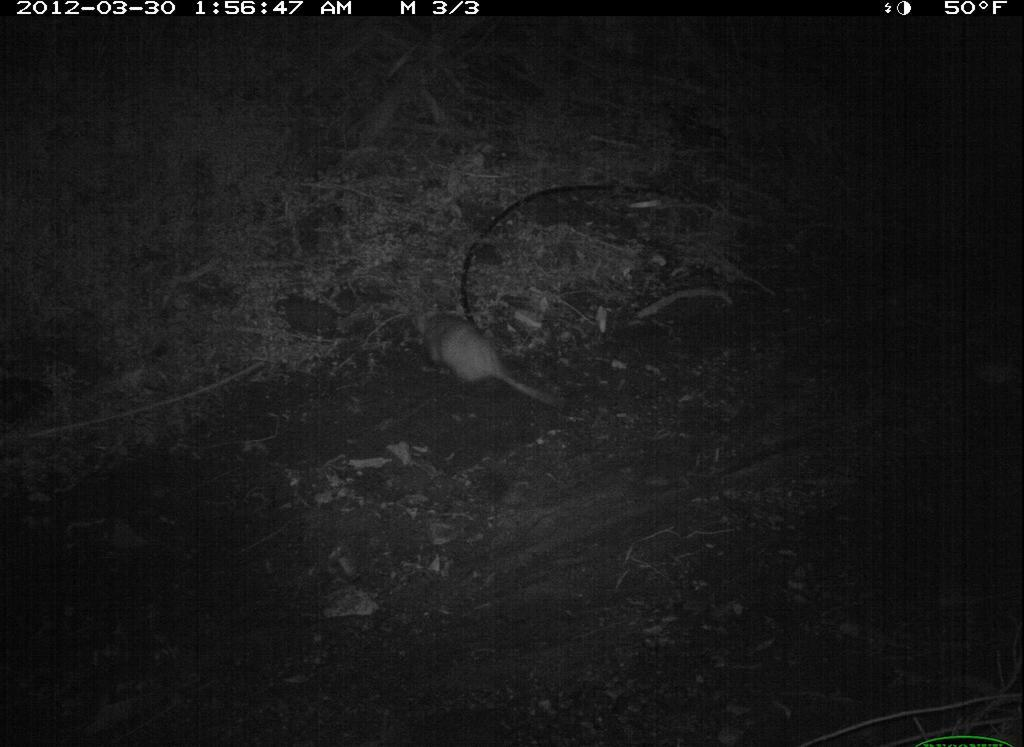opossum: (385, 281, 583, 432)
